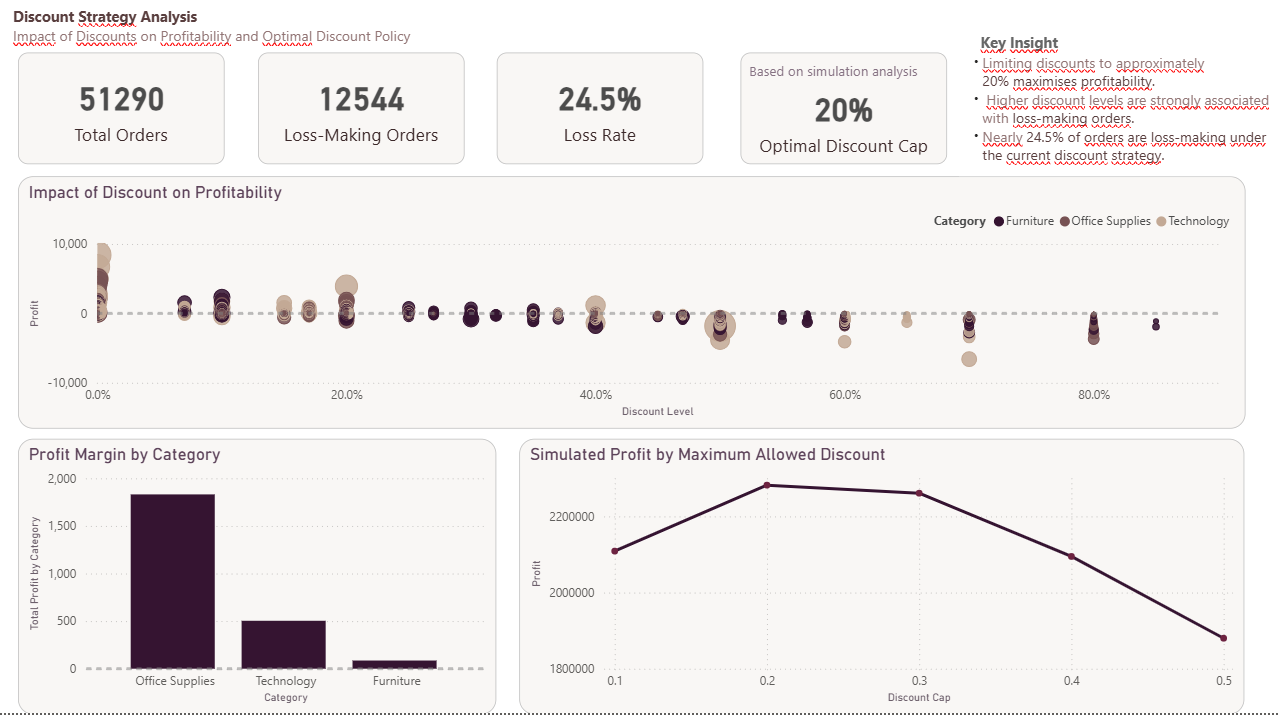

This screenshot's page, from the dashboard's own definition file:
{"tool":"powerbi","page":{"name":"Discount Strategy Overview","canvas":[1280,720],"ordinal":0},"visuals":[{"type":"scatterChart","title":"Impact of Discount on Profitability","fields":{"X":["superstore.Discount"],"Y":["superstore.Profit"],"Size":["Sum(superstore.Sales)"],"Series":["superstore.Category"]},"box":[24.7,185.2,1221.3,251.1],"z":0},{"type":"card","fields":{"Values":["superstore.Total Orders"]},"box":[24.7,61.7,205.8,111.1],"z":1000},{"type":"card","fields":{"Values":["superstore.Loss-Making Orders"]},"box":[263.5,61.7,205.8,111.1],"z":3000},{"type":"card","fields":{"Values":["superstore.Loss Rate"]},"box":[500.9,61.7,205.8,111.1],"z":4000},{"type":"card","fields":{"Values":["superstore.Optimal Discount Cap"]},"box":[743.7,61.7,205.8,111.1],"z":5000},{"type":"columnChart","title":"Profit Margin by Category","fields":{"Category":["superstore.Category"],"Y":["Sum(superstore.Profit Margin)"]},"box":[24.7,446,476.2,274.4],"z":6000},{"type":"lineChart","title":"Simulated Profit by Maximum Allowed Discount","fields":{"Category":["discount_scenarios.Discount_Cap"],"Y":["Sum(discount_scenarios.Profit)"]},"box":[524.2,446,721.8,274.4],"z":7000},{"type":"textbox","box":[15.1,11,620.2,50.8],"z":7001},{"type":"textbox","box":[961.9,37,318.4,148.2],"z":7002}]}

Visuals, with their boxes in screenshot pixels (x1, y1, x2, y2), scaled from the page's 1280x720 canvas onto the 1278x717 screenshot:
"Impact of Discount on Profitability" scatterChart: {"left": 25, "top": 184, "right": 1244, "bottom": 434}
card - superstore.Total Orders: {"left": 25, "top": 61, "right": 230, "bottom": 172}
card - superstore.Loss-Making Orders: {"left": 263, "top": 61, "right": 469, "bottom": 172}
card - superstore.Loss Rate: {"left": 500, "top": 61, "right": 706, "bottom": 172}
card - superstore.Optimal Discount Cap: {"left": 743, "top": 61, "right": 948, "bottom": 172}
"Profit Margin by Category" columnChart: {"left": 25, "top": 444, "right": 500, "bottom": 716}
"Simulated Profit by Maximum Allowed Discount" lineChart: {"left": 523, "top": 444, "right": 1244, "bottom": 716}
textbox: {"left": 15, "top": 11, "right": 634, "bottom": 62}
textbox: {"left": 960, "top": 37, "right": 1277, "bottom": 184}
